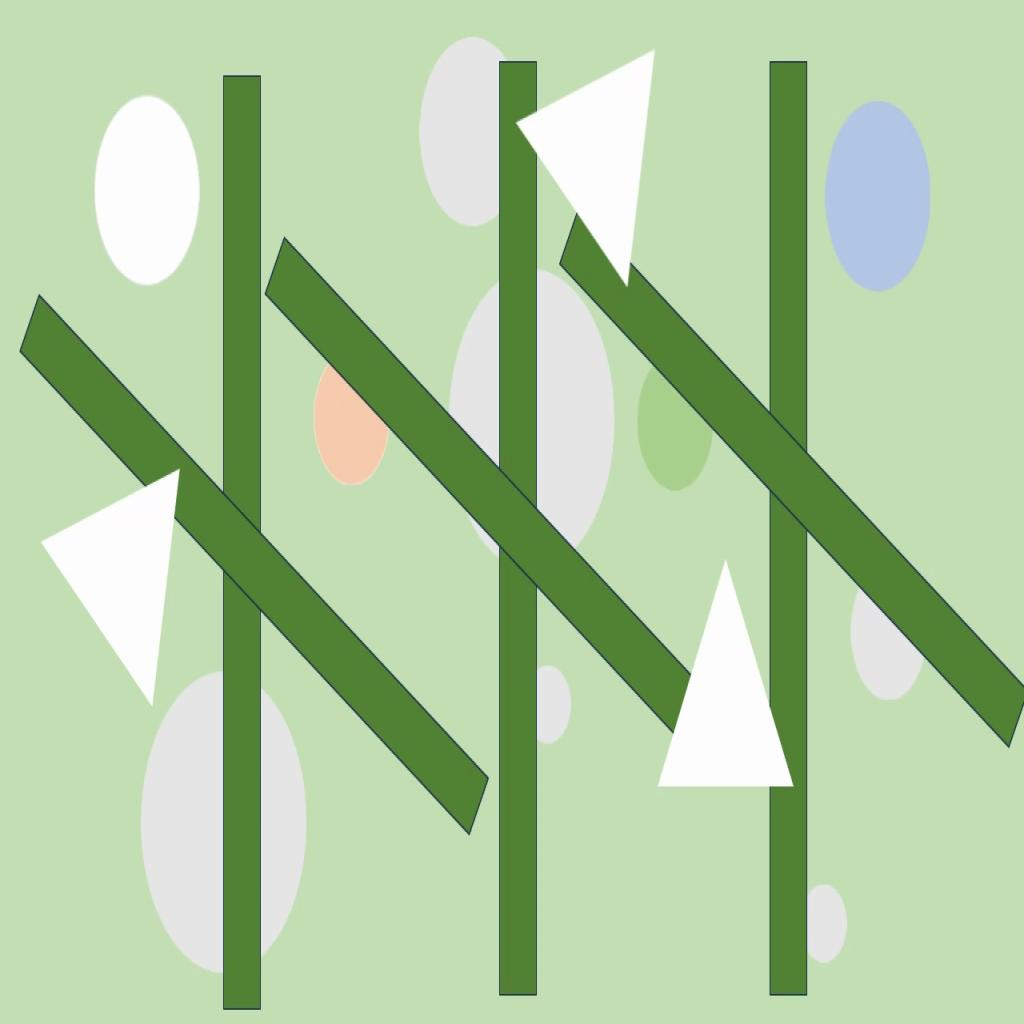Circle: (445, 266, 618, 562), (141, 673, 308, 976), (823, 96, 932, 292), (94, 91, 201, 288), (417, 32, 518, 230), (636, 350, 715, 492), (849, 574, 926, 704), (313, 358, 391, 486), (799, 882, 847, 966), (524, 665, 572, 746)
